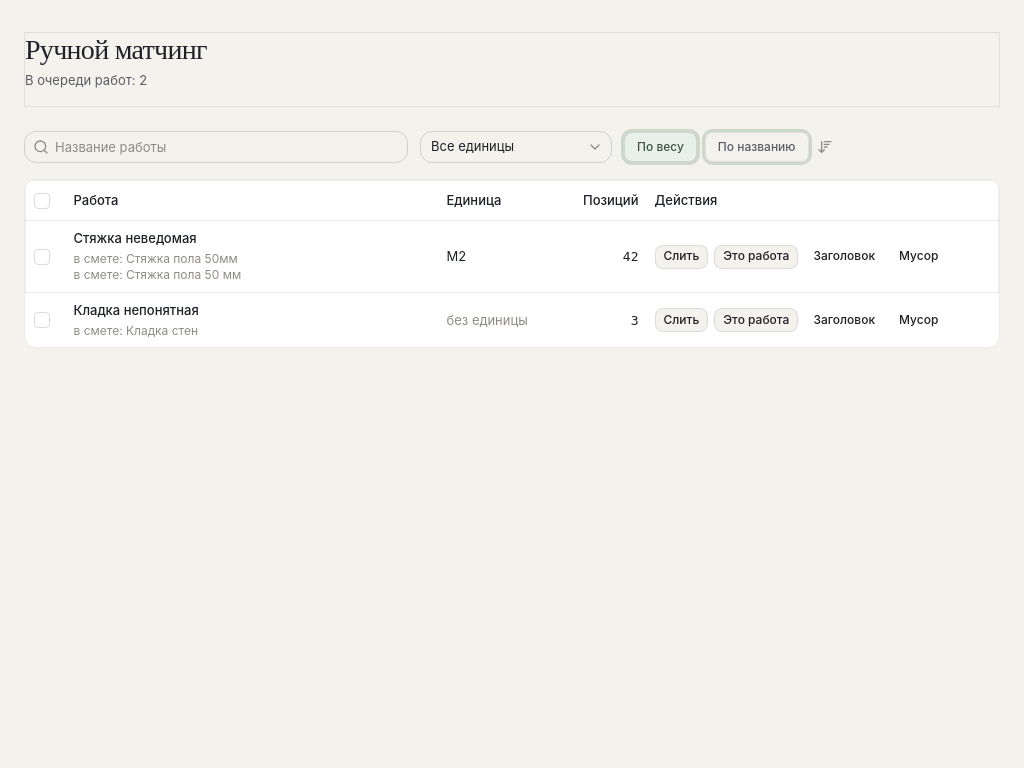
Пакетная разметка (решение §6.5) › после пакета выделение снимается
Expected: the text "Стяжка неведомая" is shown, [74, 230, 197, 246]
What coordinates should you click on to do the following:
click the checkbox named "Выбрать все строки на странице"
I would click on:
 (42, 201)
Its box is [34, 193, 50, 209].
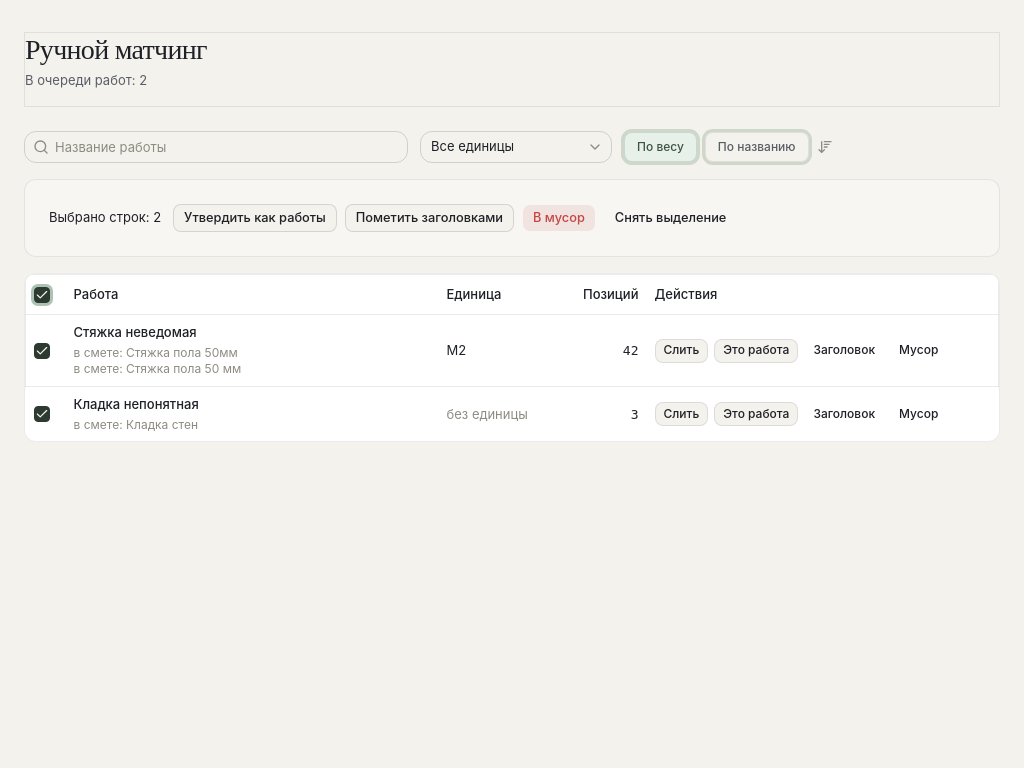
What coordinates should you click on to do the following:
click the button "Пометить заголовками"
I would click on:
 (429, 218)
Its box is [345, 204, 514, 232].
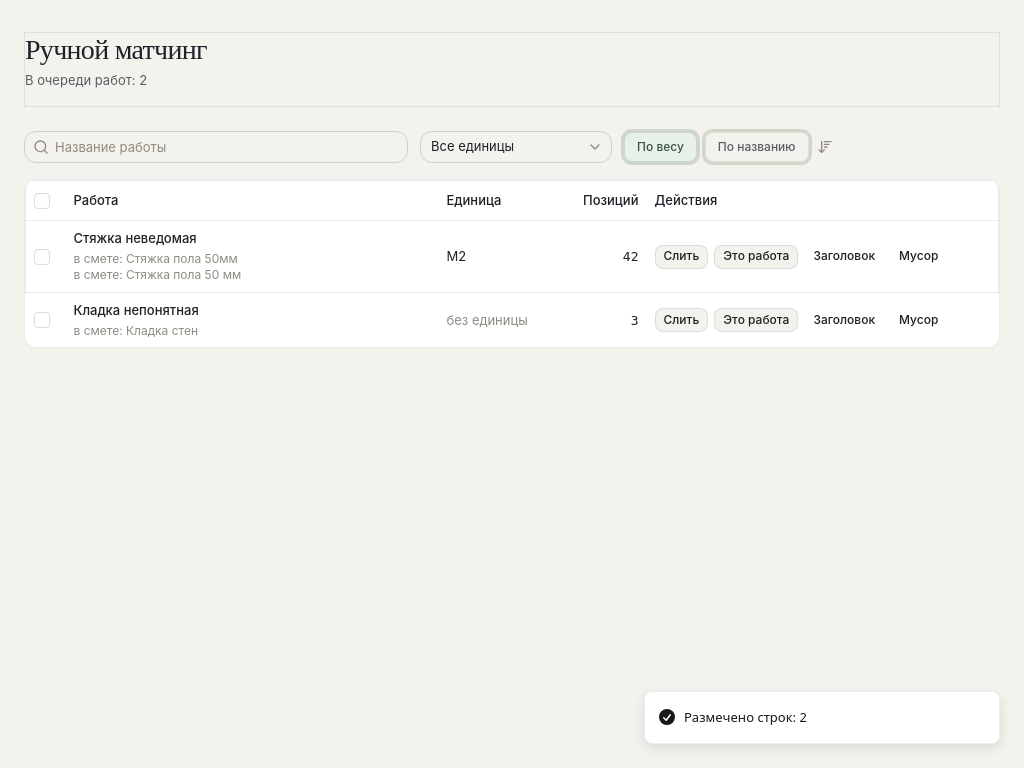
Now the text "Выбрано строк" is gone
